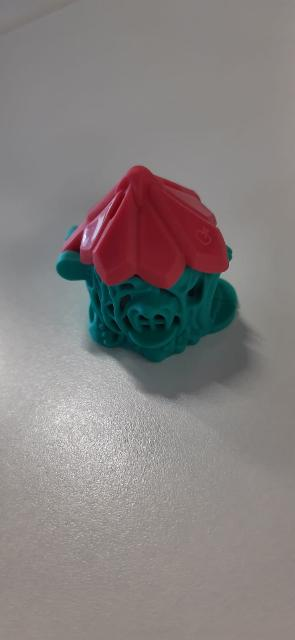House: (49, 150, 246, 366)
